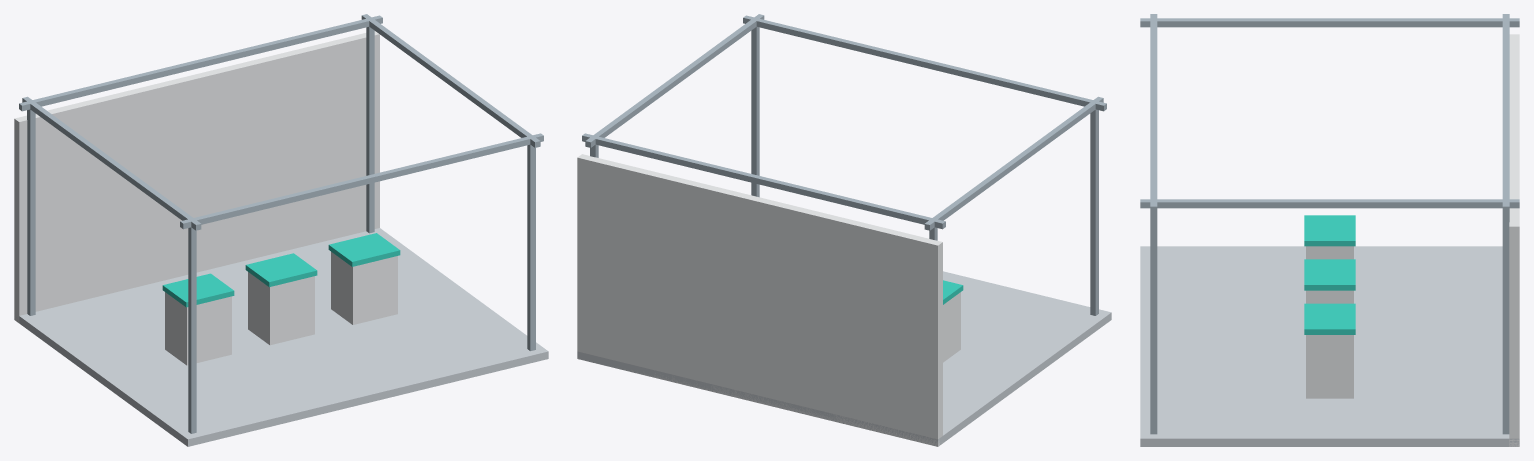
3 views of the same model, side by side, from view 1: azimuth 30°, elevation 25°; view 2: azimuth 150°, elevation 25°; view 3: azimuth 270°, elevation 25° (orthographic). The views are drawn at different scales.
Visible parts, largest first — view 1: Exhibition Booth Concept; view 2: Exhibition Booth Concept; view 3: Exhibition Booth Concept.
Boxes of the visible parts, box(x1,y1,x2,y2) form: Exhibition Booth Concept: box(14, 14, 548, 446); Exhibition Booth Concept: box(577, 14, 1111, 446); Exhibition Booth Concept: box(1140, 14, 1519, 446).
Bounding box in the file's own units: 6 × 3.49 × 5.
